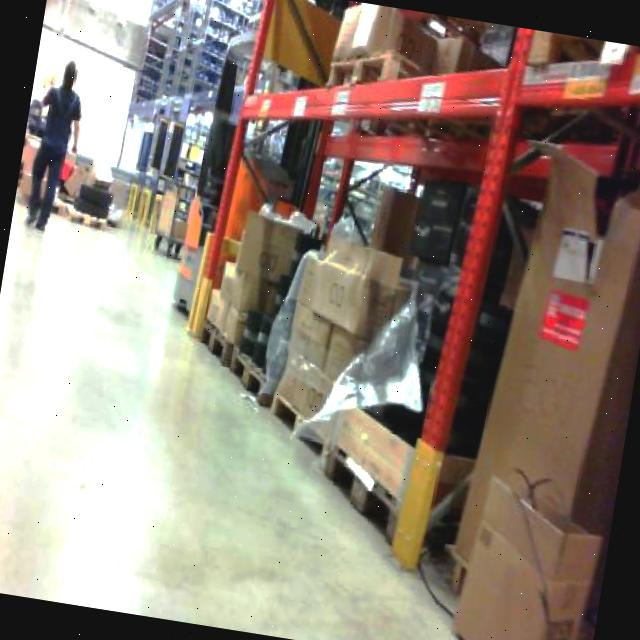ground: (0, 168, 640, 640)
pallet: (151, 0, 640, 601), (442, 136, 640, 615), (266, 228, 416, 453), (14, 129, 122, 232)
